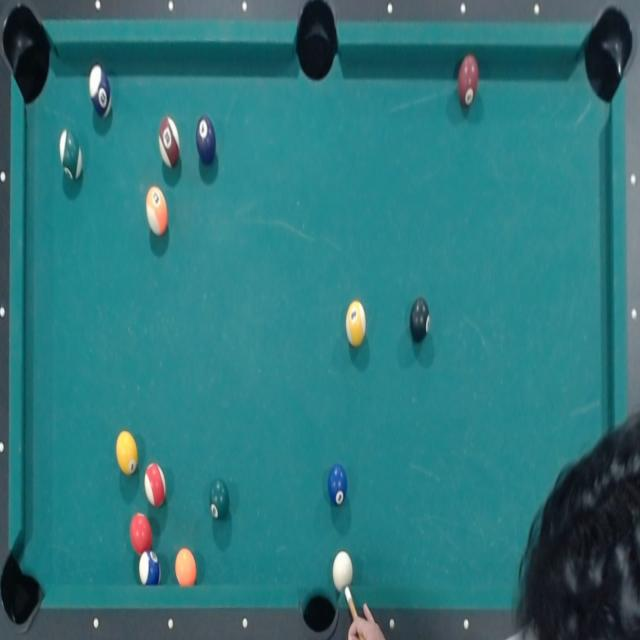black_8ball: (410, 297, 431, 343)
blue_solid: (327, 462, 348, 504)
blue_stripe: (139, 548, 162, 586)
cue_ball: (332, 551, 355, 589)
cue_body: (348, 604, 359, 622)
cue_tip: (344, 585, 354, 602)
green_solid: (208, 478, 230, 520)
green_stripe: (58, 129, 86, 181)
maroon_solid: (456, 54, 482, 107)
maroon_stripe: (157, 117, 182, 170)
orange_solid: (175, 547, 198, 587)
orange_stripe: (145, 186, 169, 237)
player_hand: (344, 602, 390, 639)
playr: (196, 114, 217, 166)
purple_solid: (88, 64, 114, 119)
purple_stripe: (130, 512, 154, 554)
red_solid: (144, 462, 170, 508)
red_stripe: (115, 430, 140, 476)
yellow_solid: (346, 300, 366, 346)
